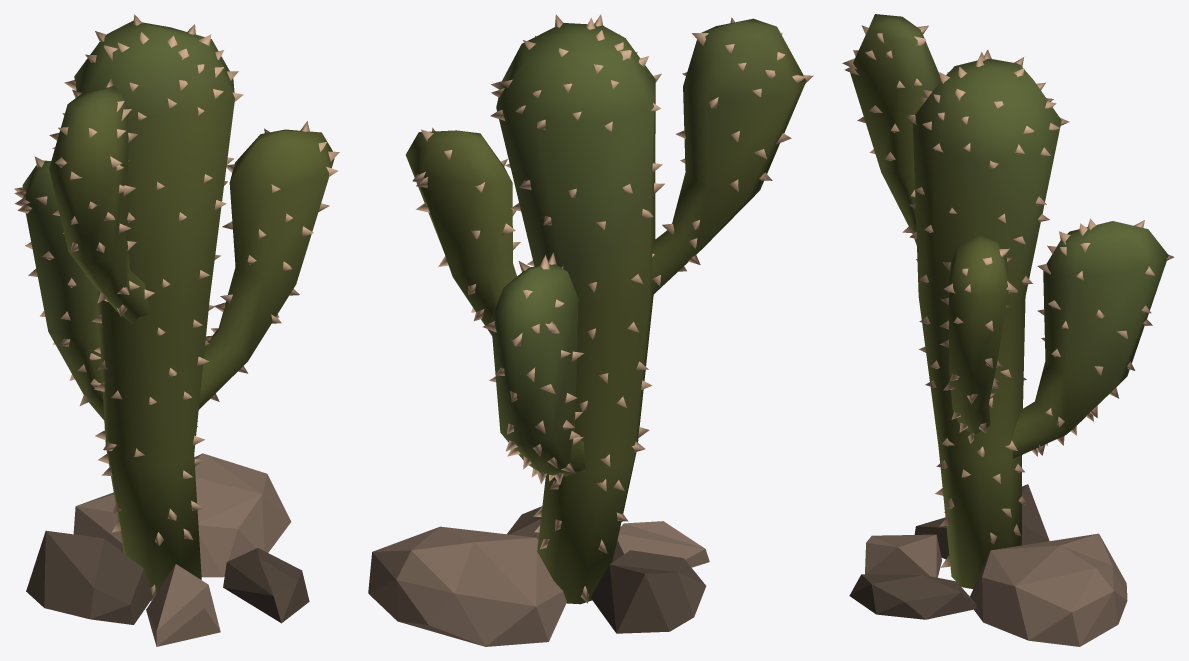
Rendered from cactus_2.glb.
3 views of the same model, side by side, from view 1: azimuth 30°, elevation 25°; view 2: azimuth 150°, elevation 25°; view 3: azimuth 270°, elevation 25° (orthographic). The views are drawn at different scales.
Parts seen in each view (by area): view 1: Cactus 2; view 2: Cactus 2; view 3: Cactus 2.
Boxes of the visible parts, x1,y1,x2,y2 form: Cactus 2: (14, 14, 339, 646); Cactus 2: (368, 14, 813, 646); Cactus 2: (842, 14, 1174, 646).
Size of the model in its own units: 2.2 by 3.51 by 2.05.
Materials: 1 (1 with a texture image).
